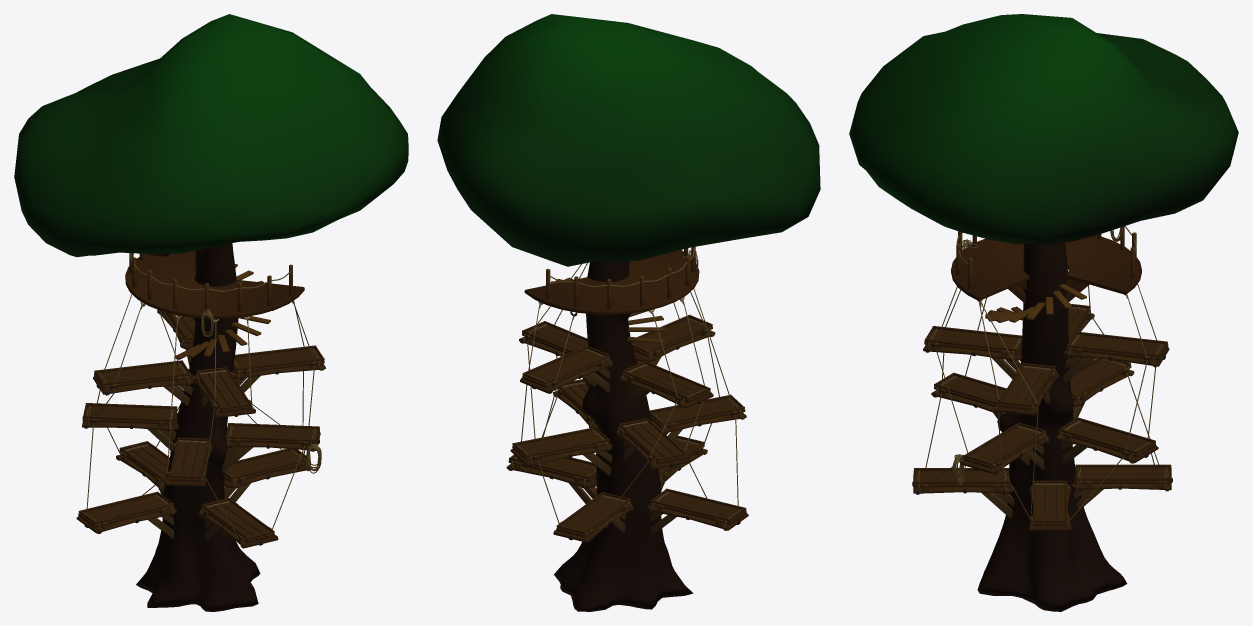
The model's file is tree3d.fbx.
3 renders of one model, left to right at view 1: azimuth 30°, elevation 25°; view 2: azimuth 150°, elevation 25°; view 3: azimuth 270°, elevation 25°, orthographic. The views are drawn at different scales.
Visible parts, largest first — view 1: Icosphere.036, Cube.439, Cube.074, Cube.053, Cube.056, Cube.007, Cube.073, Cube.001, Cube.040, BezierCurve.006, Cube.066, Cube.047 (+4 smaller); view 2: Icosphere.036, Cube.439, Cube.045, Cube.007, Cube.072, Cube.074, BezierCurve.006, Cube.006, Cube.047, Cube.053, Cube.066, Cube.001 (+5 smaller); view 3: Icosphere.036, Cube.439, Cube.072, Cube.006, Cube.066, Cube.045, Cube.040, Cube.056, BezierCurve.006, Cube.073, Cube.001, Cube.053 (+4 smaller).
Boxes of the visible parts, x1,y1,x2,y2 form: Icosphere.036: [14, 14, 408, 611]; Cube.439: [125, 250, 304, 318]; Cube.074: [93, 360, 194, 406]; Cube.053: [82, 403, 178, 451]; Cube.056: [222, 423, 320, 473]; Cube.007: [76, 491, 176, 539]; Cube.073: [232, 345, 325, 392]; Cube.001: [224, 448, 312, 502]; Cube.040: [199, 498, 278, 548]; BezierCurve.006: [86, 294, 314, 539]; Cube.066: [193, 367, 255, 417]; Cube.047: [165, 437, 213, 487]; Icosphere.036: [437, 14, 820, 611]; Cube.439: [524, 250, 699, 314]; Cube.045: [510, 427, 612, 476]; Cube.007: [647, 488, 748, 535]; Cube.072: [520, 345, 612, 393]; Cube.074: [620, 361, 713, 408]; BezierCurve.006: [516, 263, 738, 533]; Cube.006: [553, 492, 633, 542]; Cube.047: [650, 394, 746, 440]; Cube.053: [616, 418, 690, 469]; Cube.066: [631, 314, 715, 365]; Cube.001: [506, 455, 597, 503]; Icosphere.036: [849, 14, 1238, 611]; Cube.439: [951, 235, 1141, 303]; Cube.072: [1063, 331, 1169, 383]; Cube.006: [1071, 464, 1172, 510]; Cube.066: [923, 326, 1022, 379]; Cube.045: [1056, 417, 1158, 464]; Cube.040: [912, 468, 1014, 518]; Cube.056: [960, 422, 1048, 474]; BezierCurve.006: [925, 284, 1159, 520]; Cube.073: [994, 362, 1058, 415]; Cube.001: [1028, 480, 1072, 532]; Cube.053: [1070, 358, 1134, 420].
Size of the model in its own units: 2493 by 3745 by 2297.
